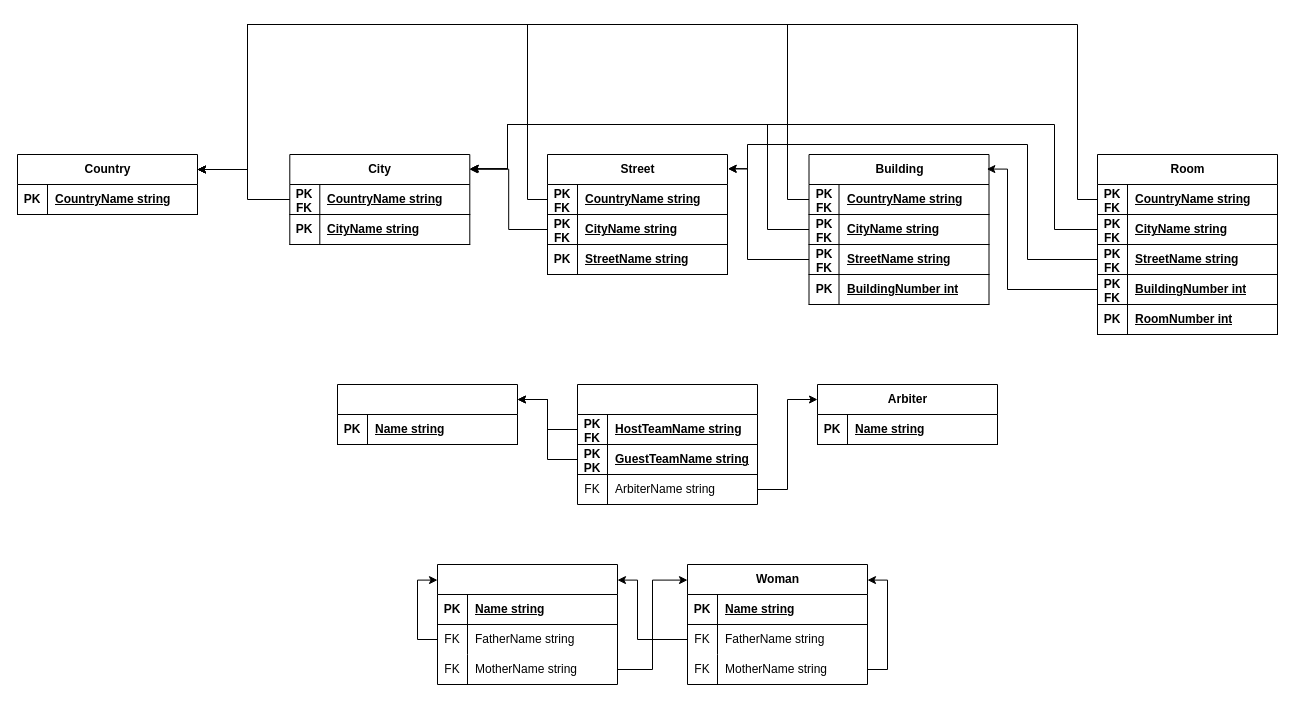
Some shapes in this 1295 by 702 pixel diagram are drawn without their labels. Here are the shapes that lost their labels. From the top down, the box of each, then its label:
(336, 384, 518, 444): Team
(576, 384, 758, 504): Game
(436, 564, 618, 684): Man
